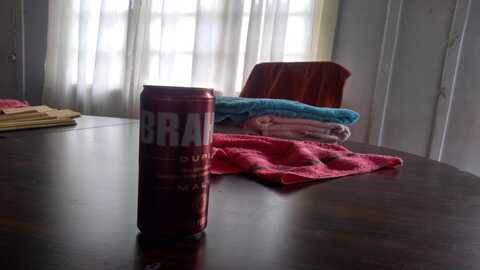duplo_malte: (138, 83, 212, 246)
